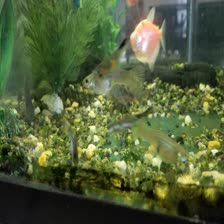Guppy: (128, 111, 197, 164), (73, 57, 154, 88), (63, 121, 86, 172)
Plano: (126, 5, 174, 59)
